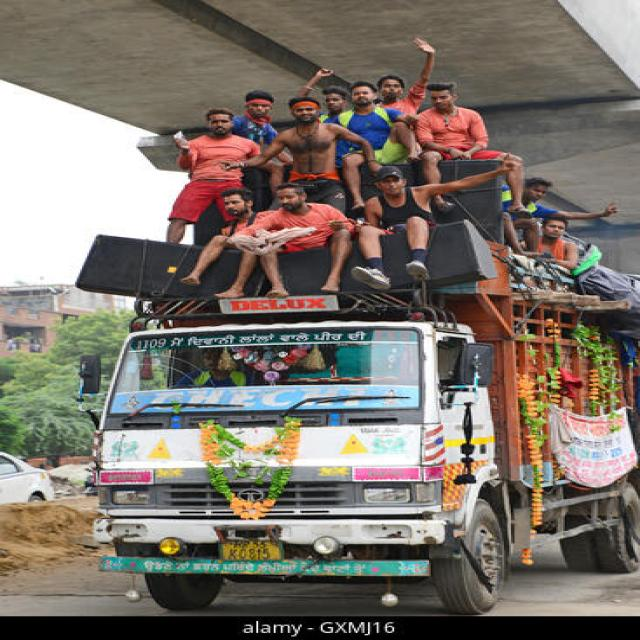goods: (77, 81, 638, 311)
truck: (94, 281, 640, 613)
